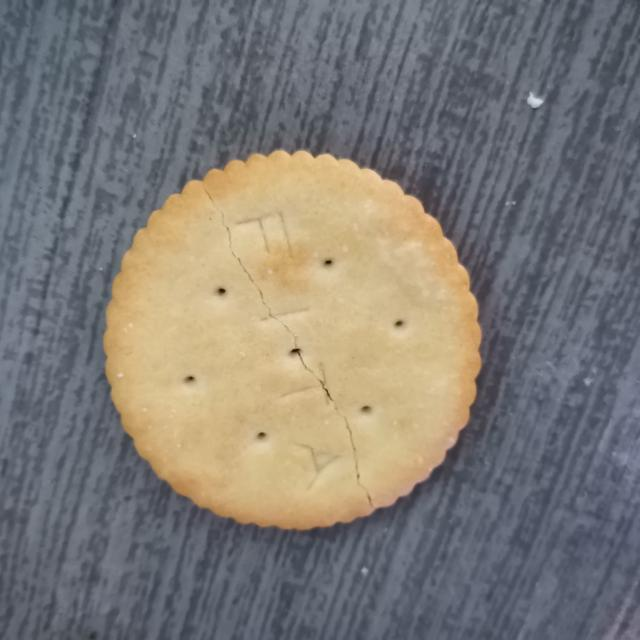Fracture: (178, 167, 396, 523)
